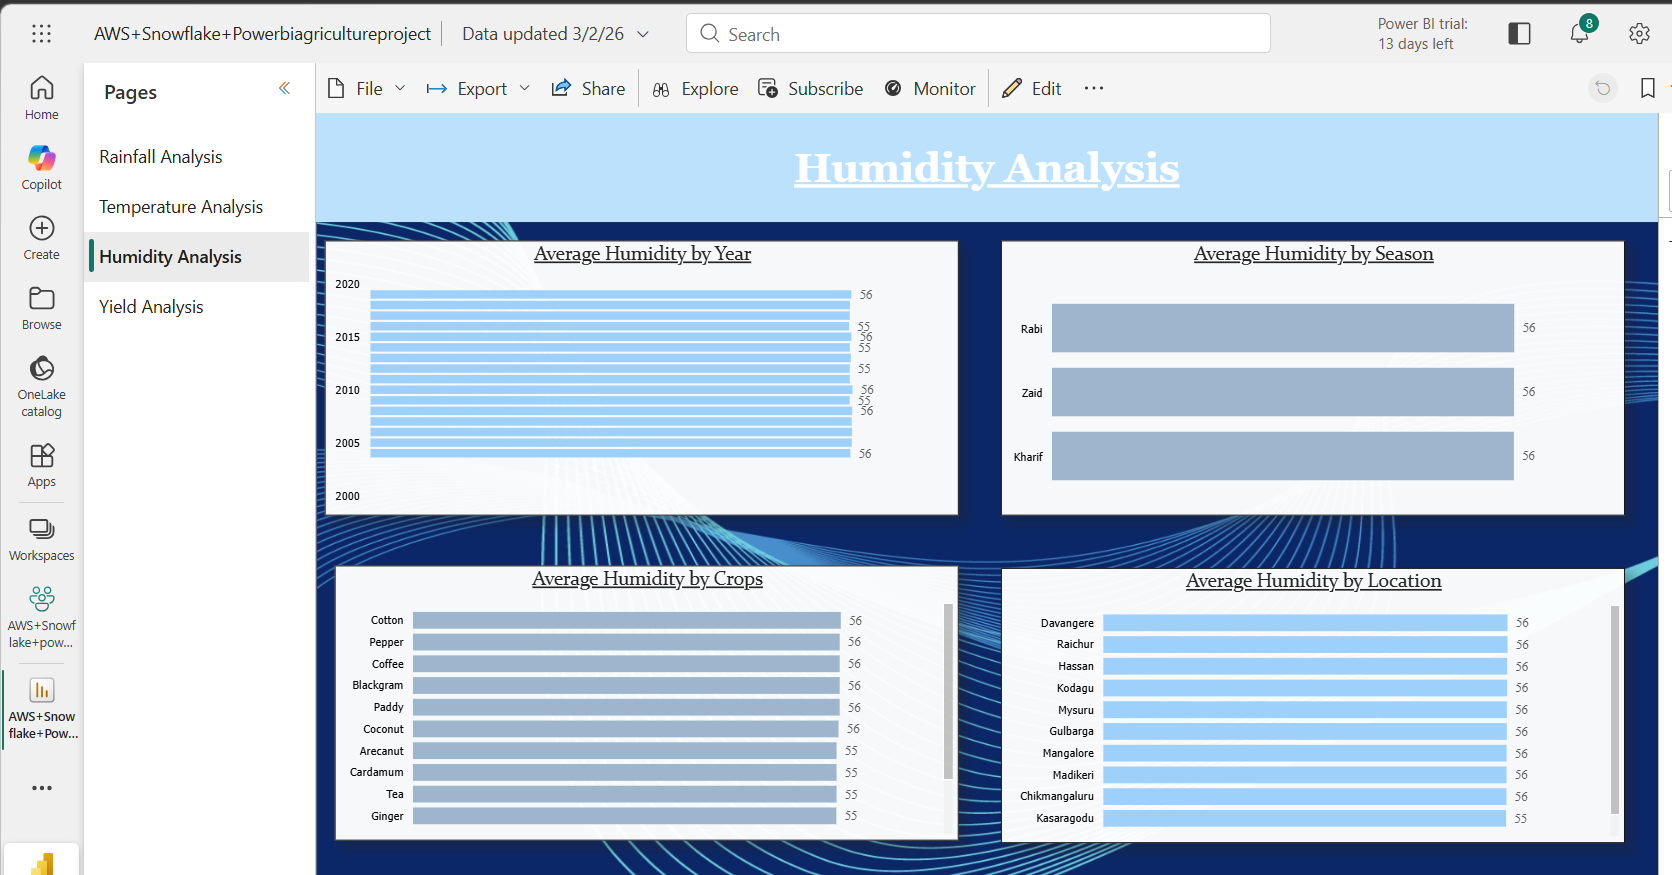

The page's visual inventory and layout, read from the dashboard file:
{"tool":"powerbi","page":{"name":"Humidity Analysis","canvas":[1280,720],"ordinal":2},"visuals":[{"type":"shape","box":[0,0,1280.3,104.3],"z":0},{"type":"barChart","title":"Average Humidity by Year","fields":{"Category":["AGGRECULTURE.YEAR"],"Y":["Avg(AGGRECULTURE.HUMIDITY)"]},"box":[8.2,122.1,605.1,262.1],"z":1000},{"type":"barChart","title":"Average Humidity by Season","fields":{"Category":["AGGRECULTURE.SEASON"],"Y":["Avg(AGGRECULTURE.HUMIDITY)"]},"box":[653.2,122.1,595.5,262.1],"z":2000},{"type":"barChart","title":"Average Humidity by Crops","fields":{"Category":["AGGRECULTURE.CROPS"],"Y":["Avg(AGGRECULTURE.HUMIDITY)"]},"box":[17.8,432.2,595.5,262.1],"z":3000},{"type":"barChart","title":"Average Humidity by Location","fields":{"Category":["AGGRECULTURE.LOCATION"],"Y":["Avg(AGGRECULTURE.HUMIDITY)"]},"box":[653.2,433.6,595.5,262.1],"z":4000}]}

Visuals, with their boxes on the page's 1280x720 design canvas (x1, y1, x2, y2). These are canvas units, not pixel positions in the 1672x875 screenshot, which may show the page scaled, cropped or inside an application window:
shape: 0, 0, 1280, 104
"Average Humidity by Year" barChart: 8, 122, 613, 384
"Average Humidity by Season" barChart: 653, 122, 1249, 384
"Average Humidity by Crops" barChart: 18, 432, 613, 694
"Average Humidity by Location" barChart: 653, 434, 1249, 696
